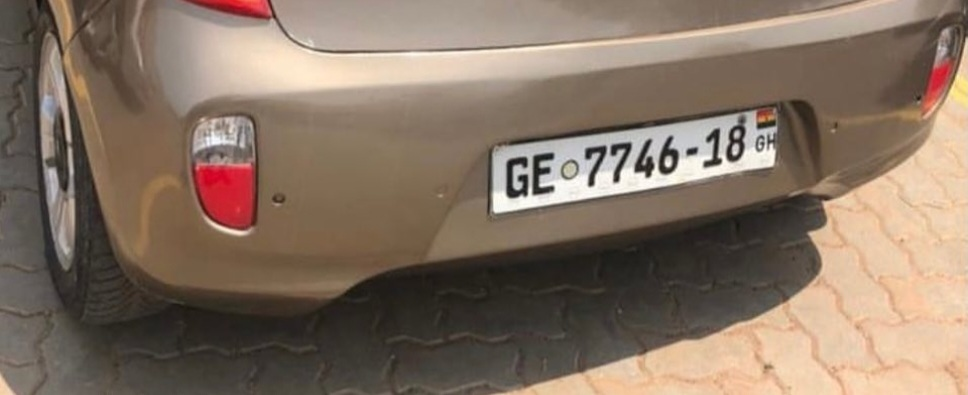number_ plates: (486, 104, 782, 216)
